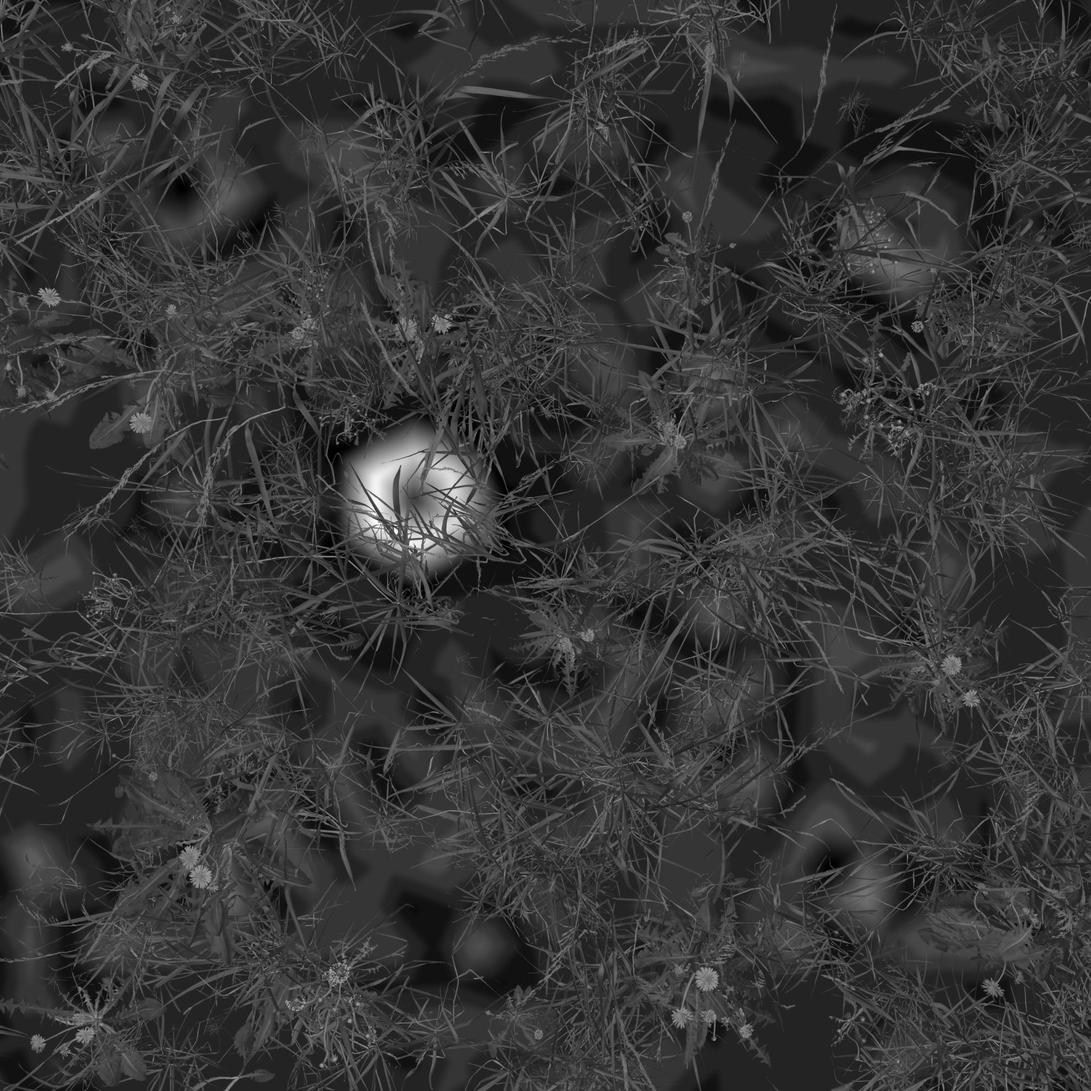landmine: (333, 433, 491, 580), (846, 186, 971, 300)
